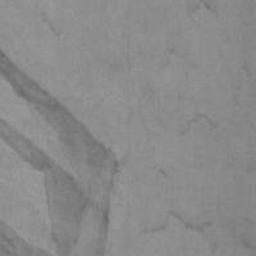Water spot: (0, 47, 122, 256)
